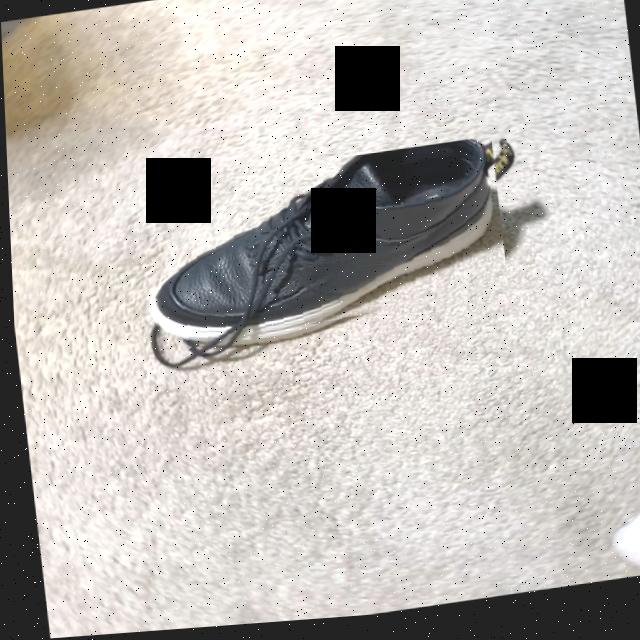shoe: (150, 146, 492, 347)
